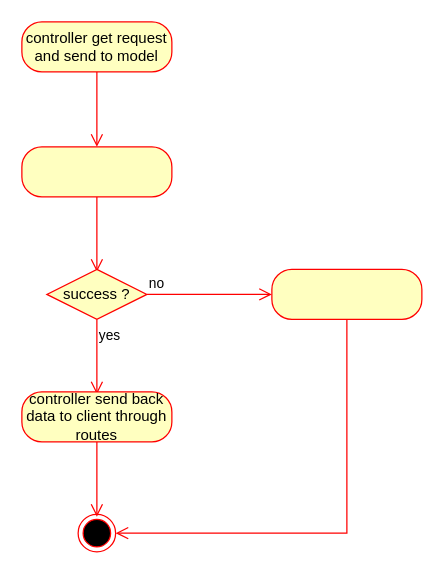
This 444x574 diagram has some shape labels left out. The shapes that lost their labels are listed below. From the top down, each one's centre as x and y in pixels, then its label:
At pixel 96 171: "model send query to sql database".
At pixel 346 293: "Controller send failed message to client through routes".
